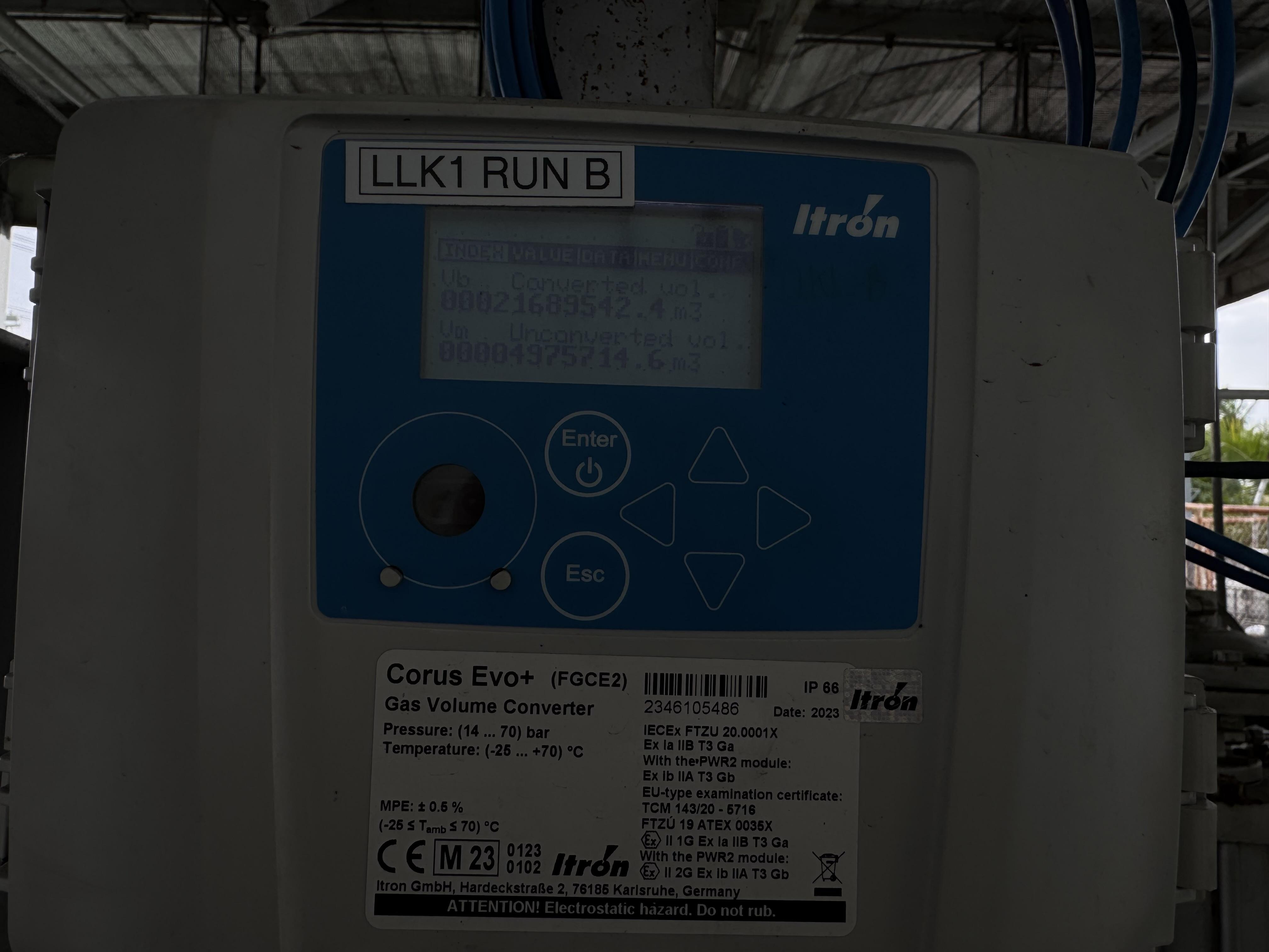digital_screen: (417, 193, 768, 390)
